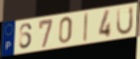0: (58, 16, 74, 46)
4: (97, 8, 113, 40)
6: (19, 23, 33, 51)
7: (38, 18, 55, 49)
I: (83, 11, 89, 43)
U: (115, 6, 134, 37)
